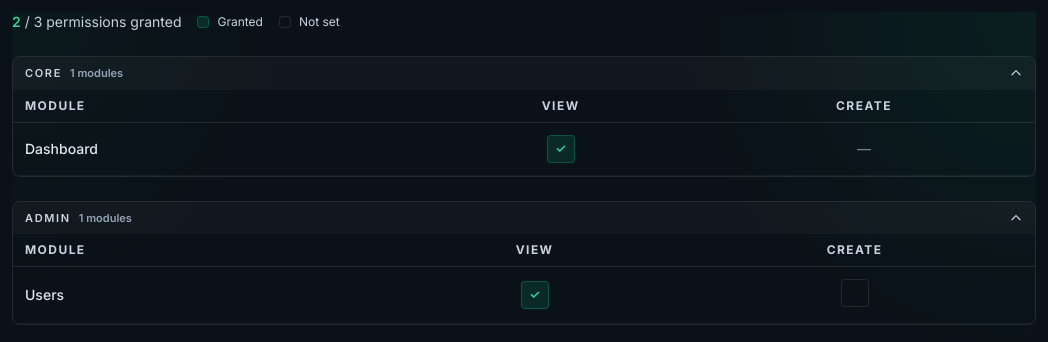
Test: RolePermissionsEditor › shows toast on successful toggle
Click the button named "Toggle users create permission (not granted)" at (855, 293), box [841,279,869,307]
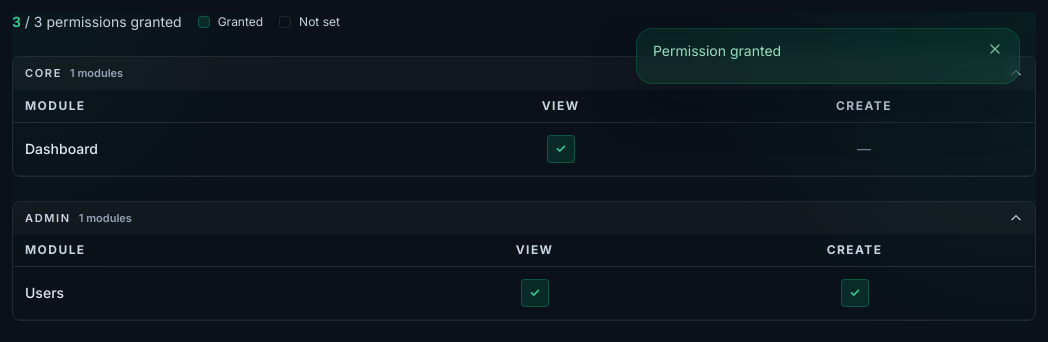
Check: the text "Permission granted" is shown, box [653,41,781,61]
